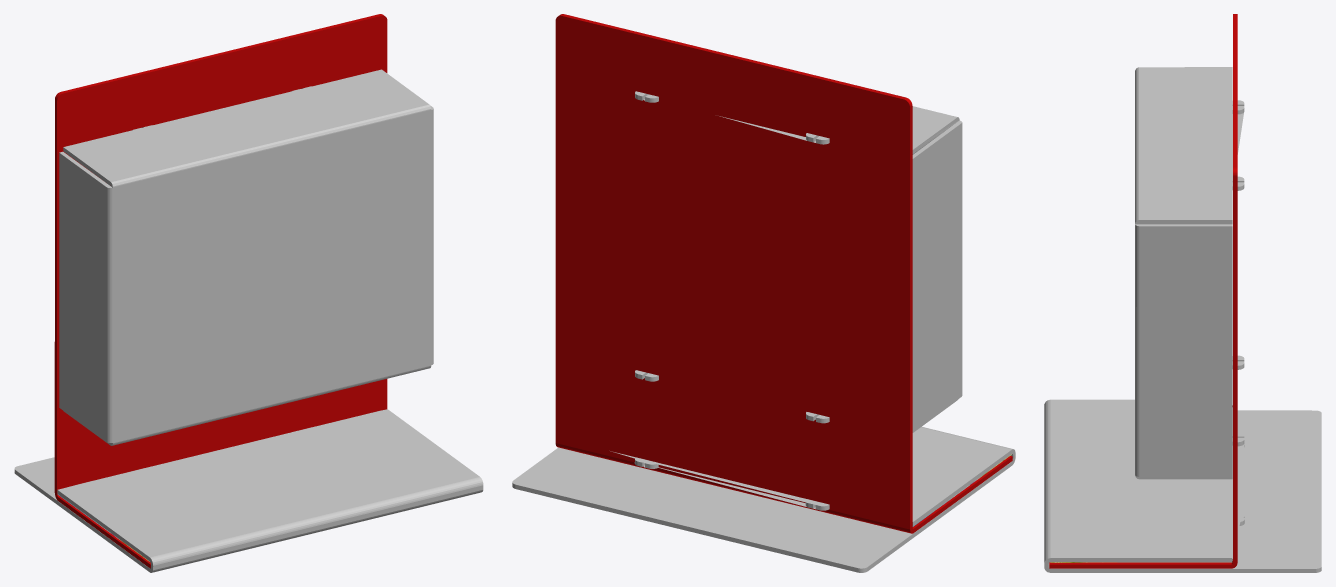
3 views of the same model, side by side, from view 1: azimuth 30°, elevation 25°; view 2: azimuth 150°, elevation 25°; view 3: azimuth 270°, elevation 25° (orthographic). The views are drawn at different scales.
Visible parts, largest first — view 1: Model, Model.002, Model.001; view 2: Model.001, Model.002, Model; view 3: Model, Model.002, Model.001.
Boxes of the visible parts, x1=… form: Model: x1=59, y1=69, x2=433, y2=445; Model.002: x1=14, y1=409, x2=483, y2=572; Model.001: x1=54, y1=14, x2=387, y2=568; Model.001: x1=555, y1=14, x2=1012, y2=533; Model.002: x1=512, y1=426, x2=1015, y2=572; Model: x1=635, y1=91, x2=962, y2=432; Model: x1=1135, y1=67, x2=1244, y2=479; Model.002: x1=1044, y1=399, x2=1321, y2=572; Model.001: x1=1049, y1=14, x2=1237, y2=568.
Size of the model in its own units: 0.1672 by 0.1982 by 0.1238.
